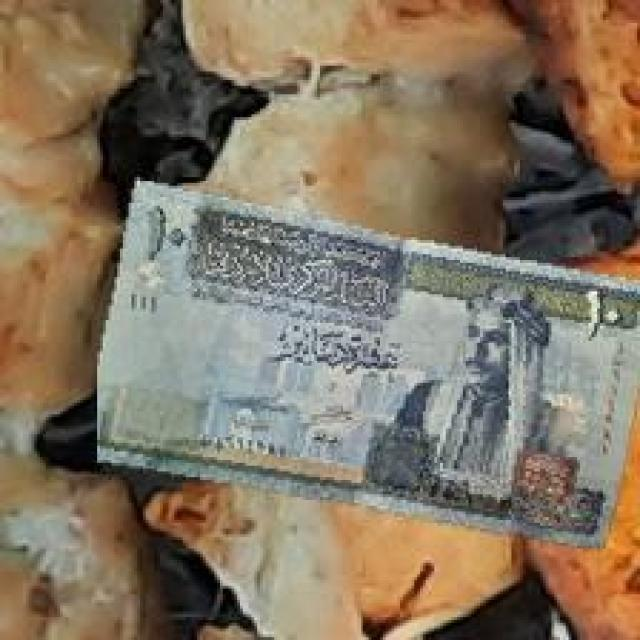10-dinar: (94, 180, 636, 550)
